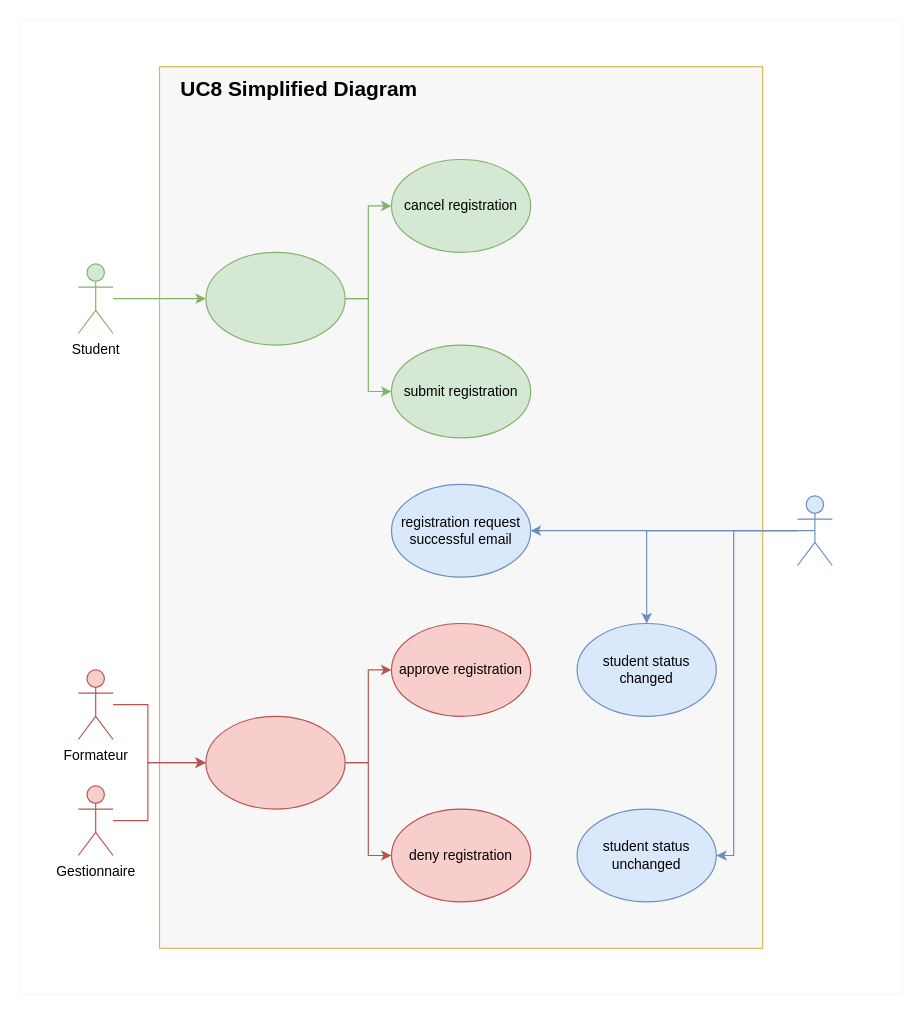
This 922x1015 diagram has some shape labels left out. The shapes that lost their labels are listed below. From the top down, each one's box as (x1, y1, x2, y2) in pixels, then its label:
(205, 251, 345, 345): create new user
(796, 495, 832, 566): System
(205, 715, 345, 809): review registration
